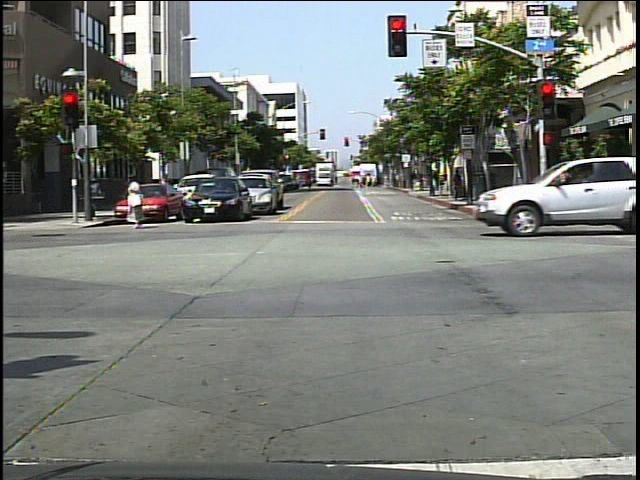person: (528, 168, 561, 230), (122, 169, 153, 233), (549, 160, 571, 211)
